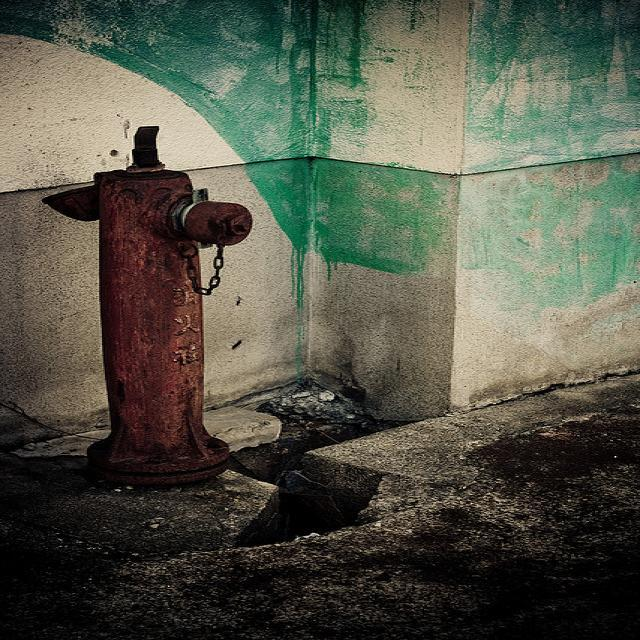fire_hydrant: (38, 125, 256, 487)
